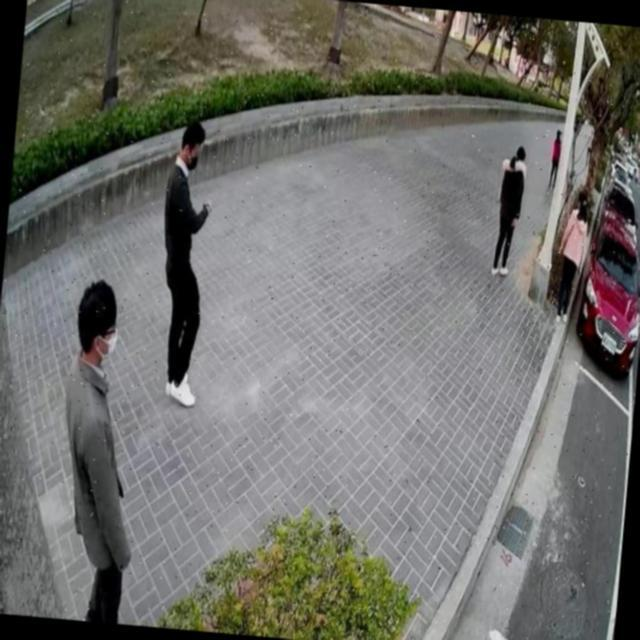person: (40, 267, 173, 626), (144, 108, 222, 414), (488, 140, 532, 280), (550, 185, 592, 328), (546, 125, 565, 193)
